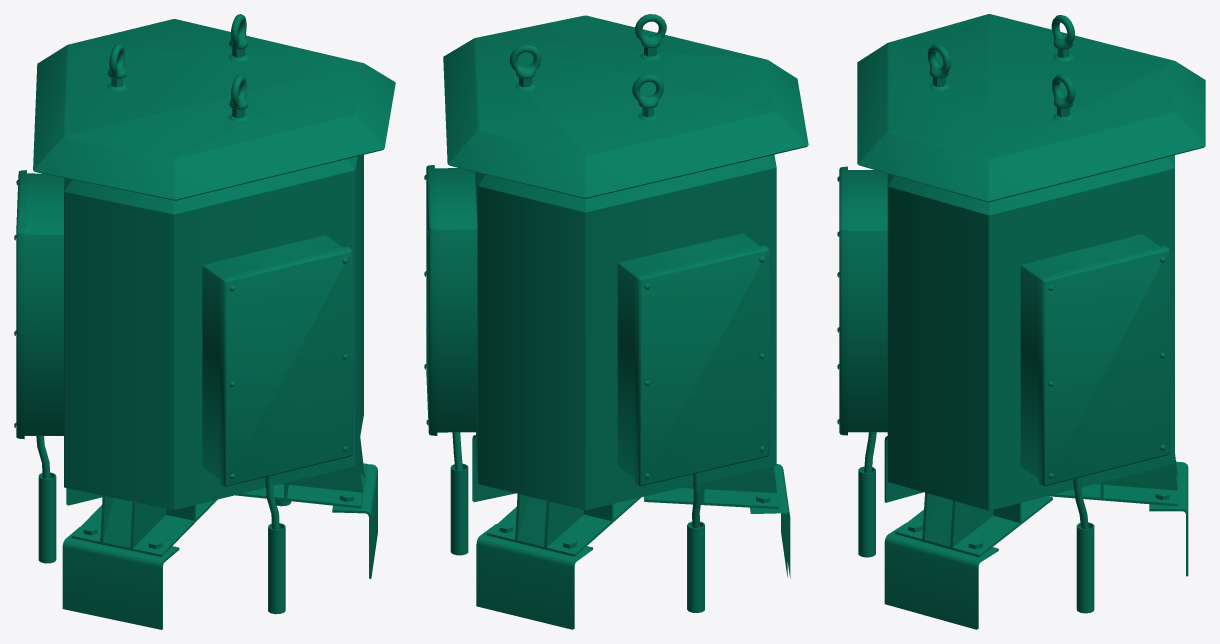
The model's file is Engine6.fbx.
3 renders of one model, left to right at view 1: azimuth 30°, elevation 25°; view 2: azimuth 150°, elevation 25°; view 3: azimuth 270°, elevation 25°, orthographic.
Visible parts, largest first — view 1: Stuff.001; view 2: Stuff.001; view 3: Stuff.001.
Boxes of the visible parts, box(x1,y1,x2,y2) form: Stuff.001: box(14, 14, 395, 629); Stuff.001: box(424, 14, 808, 629); Stuff.001: box(837, 14, 1205, 629).
Size of the model in its own units: 81.33 by 109 by 71.72.
